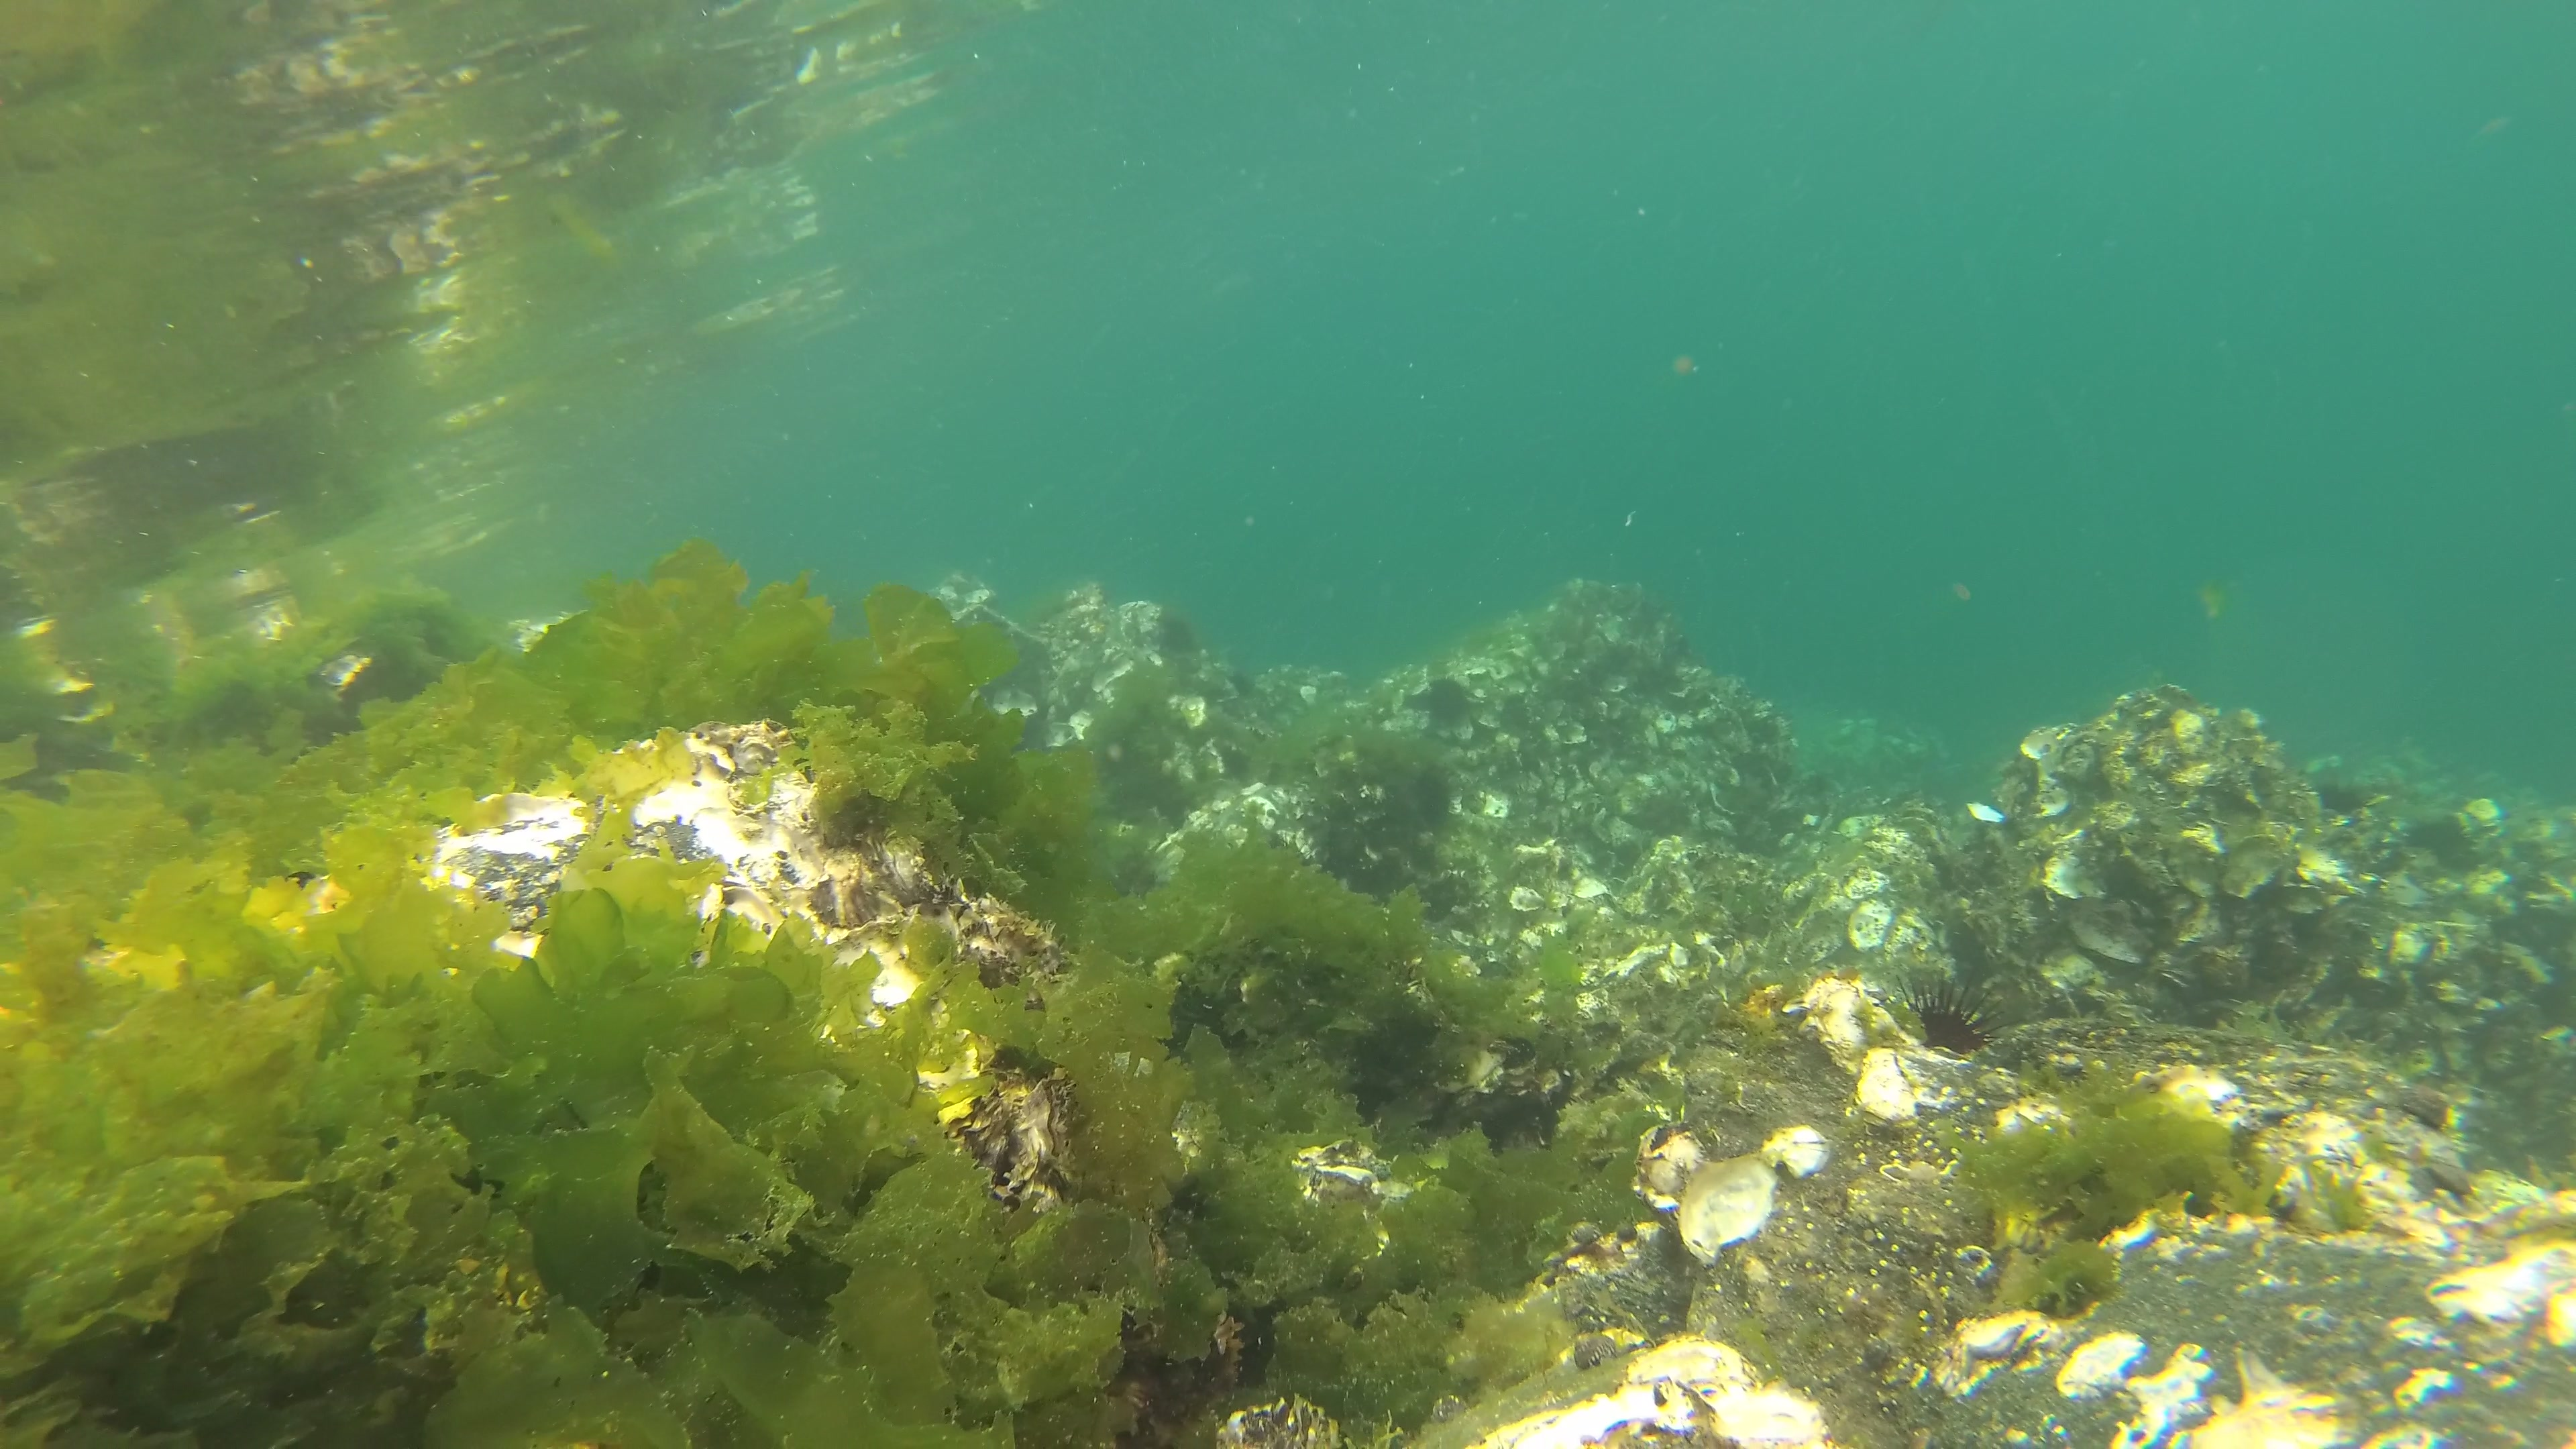echinus: (1890, 971, 2003, 1054), (2401, 812, 2480, 874), (2307, 777, 2374, 819), (1424, 674, 1476, 727)
